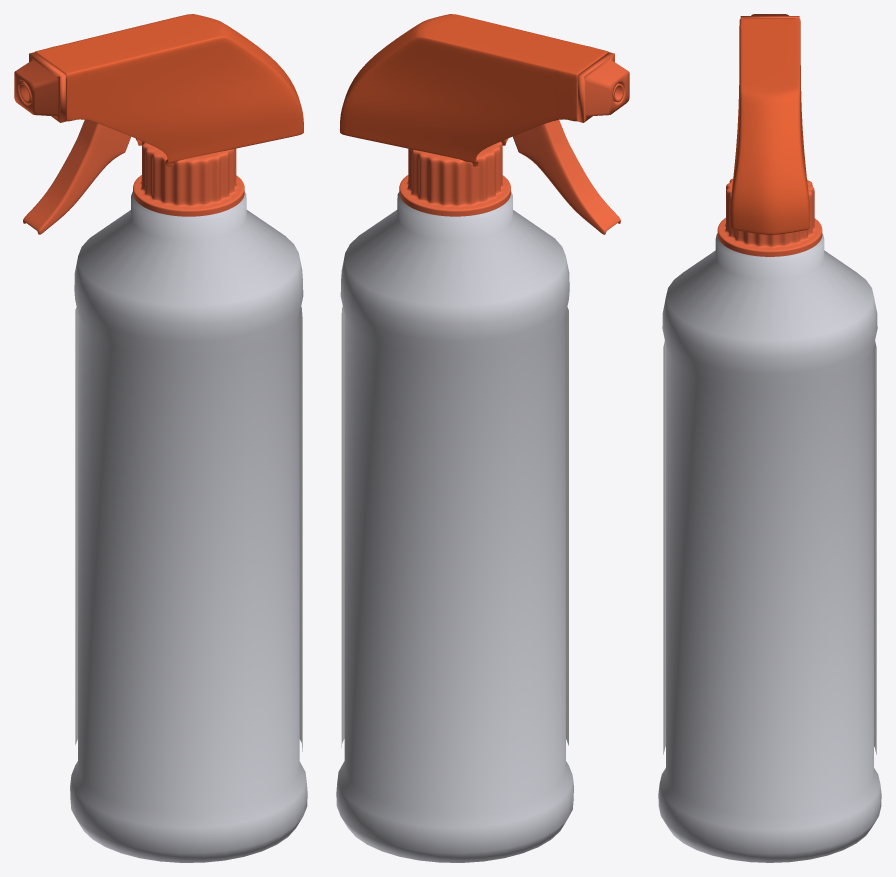
The model's file is spray_bottle_old.glb.
3 renders of one model, left to right at view 1: azimuth 30°, elevation 25°; view 2: azimuth 150°, elevation 25°; view 3: azimuth 270°, elevation 25°, orthographic. The views are drawn at different scales.
Parts seen in each view (by area): view 1: bottle, spray_nogal_back, cap, spray_handle, label, spray_nogel; view 2: bottle, spray_nogal_back, cap, spray_handle, label, spray_nogel; view 3: bottle, spray_nogal_back, cap, label.
Boxes of the visible parts, x1,y1,x2,y2 form: bottle: [70, 191, 307, 862]; spray_nogal_back: [35, 14, 303, 166]; cap: [133, 141, 244, 216]; spray_handle: [23, 120, 131, 234]; label: [75, 307, 302, 751]; spray_nogel: [14, 52, 66, 122]; bottle: [336, 191, 573, 862]; spray_nogal_back: [340, 14, 608, 166]; cap: [399, 141, 510, 216]; spray_handle: [512, 120, 620, 234]; label: [341, 306, 568, 747]; spray_nogel: [577, 52, 629, 122]; bottle: [658, 233, 881, 862]; spray_nogal_back: [730, 18, 809, 234]; cap: [717, 178, 822, 256]; label: [663, 341, 876, 754].
Bounding box in the file's own units: 1.75 × 4.9 × 1.33.
